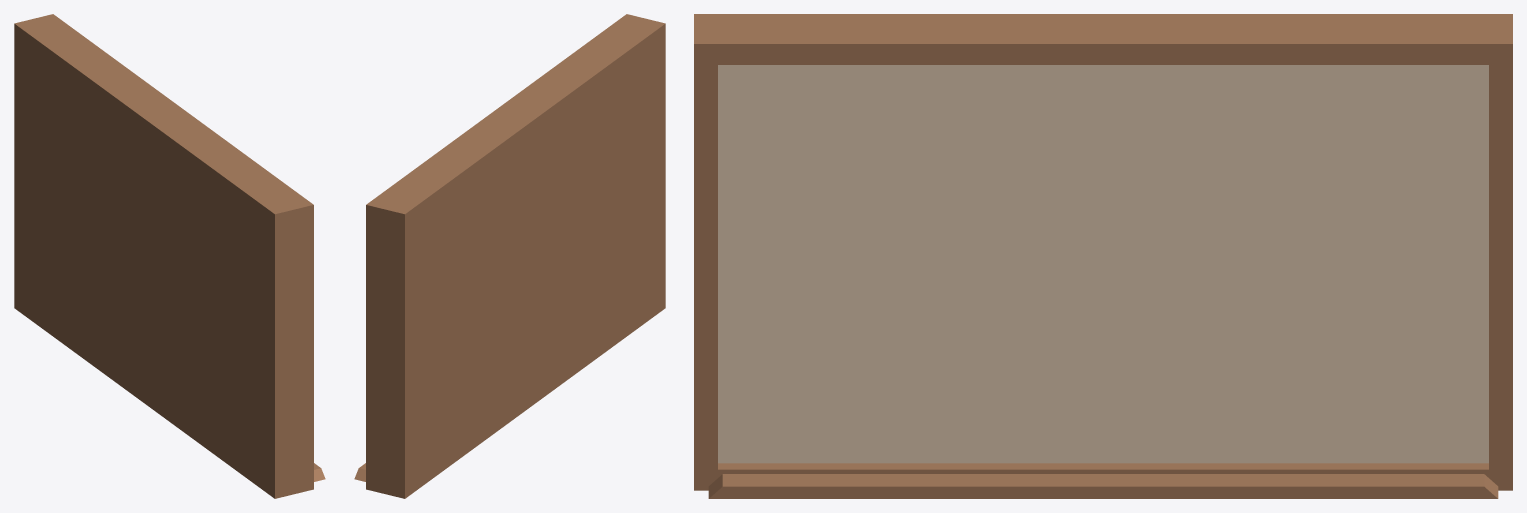
Rendered from white_board.glb.
3 views of the same model, side by side, from view 1: azimuth 30°, elevation 25°; view 2: azimuth 150°, elevation 25°; view 3: azimuth 270°, elevation 25° (orthographic). The views are drawn at different scales.
Visible parts, largest first — view 1: Cube.003; view 2: Cube.003; view 3: Cube.003.
Part boxes in pixels (bbox=[...]): Cube.003: bbox=[14, 14, 325, 498]; Cube.003: bbox=[354, 14, 665, 498]; Cube.003: bbox=[694, 14, 1512, 498].
Size of the model in its own units: 0.2878 by 1.41 by 2.35.
1 material, 1 textured.
